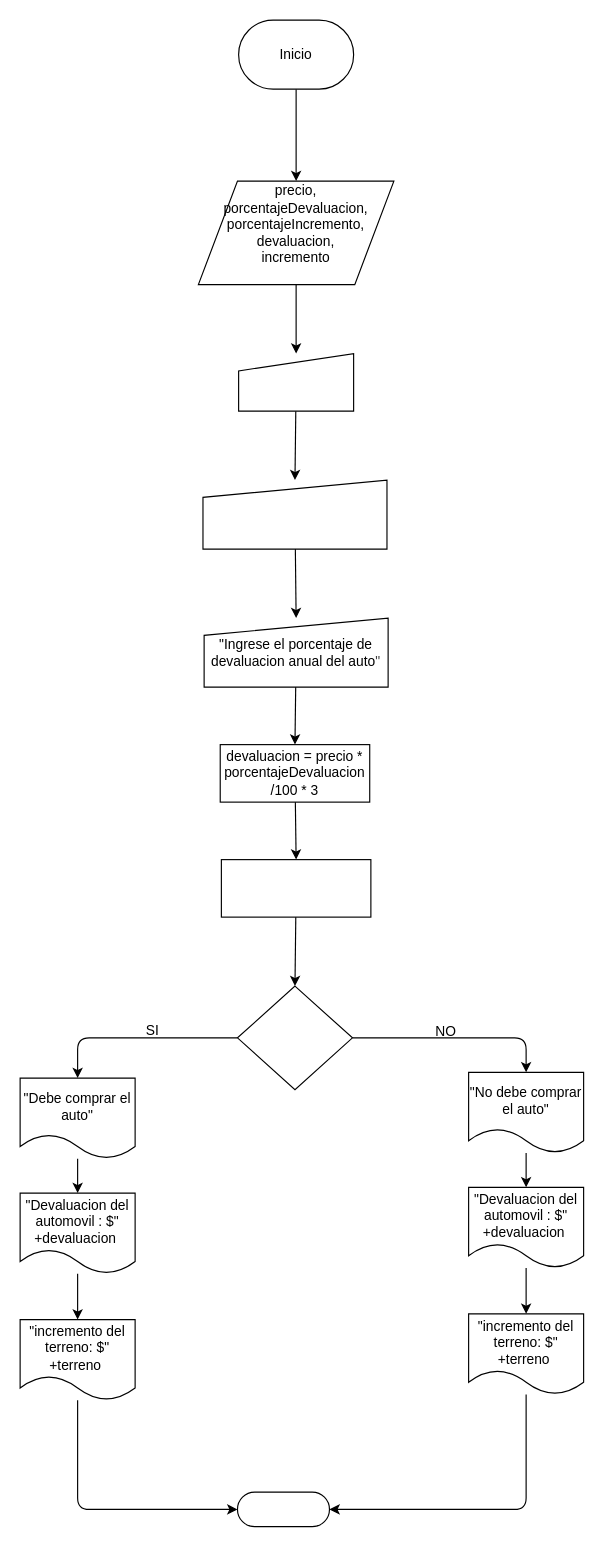
Image size: 604x1547. Some labels were removed from this diagram. Here are the shapes that lost their labels. From the top down, the centre of each, then its label:
the point at 295,381: "Ingrese el valor del terreno y auto"
the point at 294,514: "Ingrese el porcentaje de incremento del terr eno"
the point at 295,887: incremento = precio * porcentajeDevaluacion /100 * 3
the point at 294,1037: devaluacion <= incremento /2
the point at 282,1509: Fin
